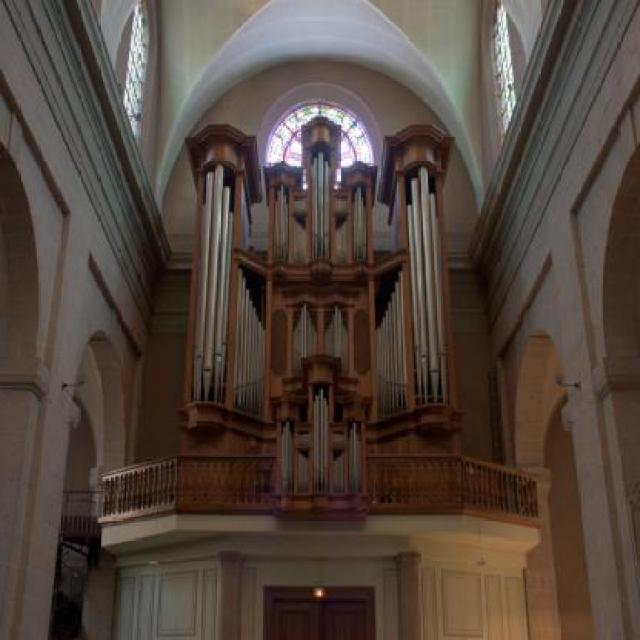stair: (46, 558, 82, 640)
